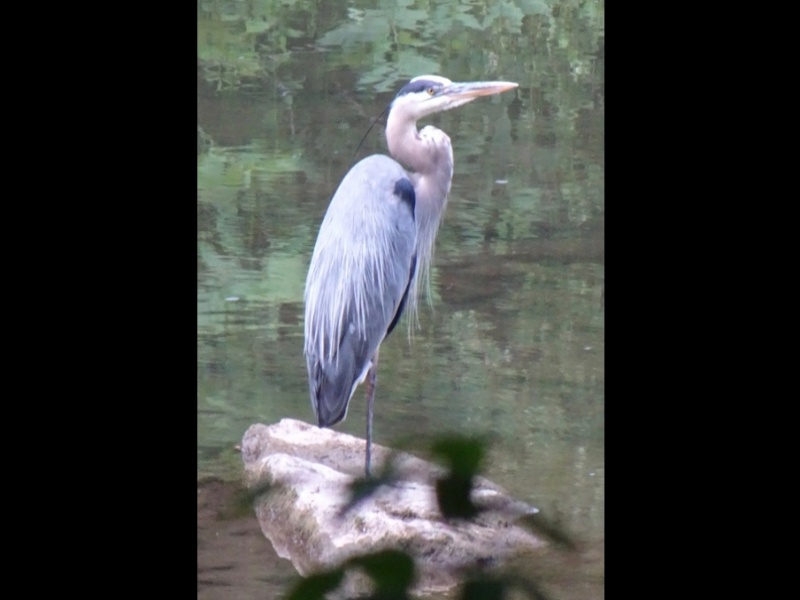heron: (298, 69, 521, 490)
